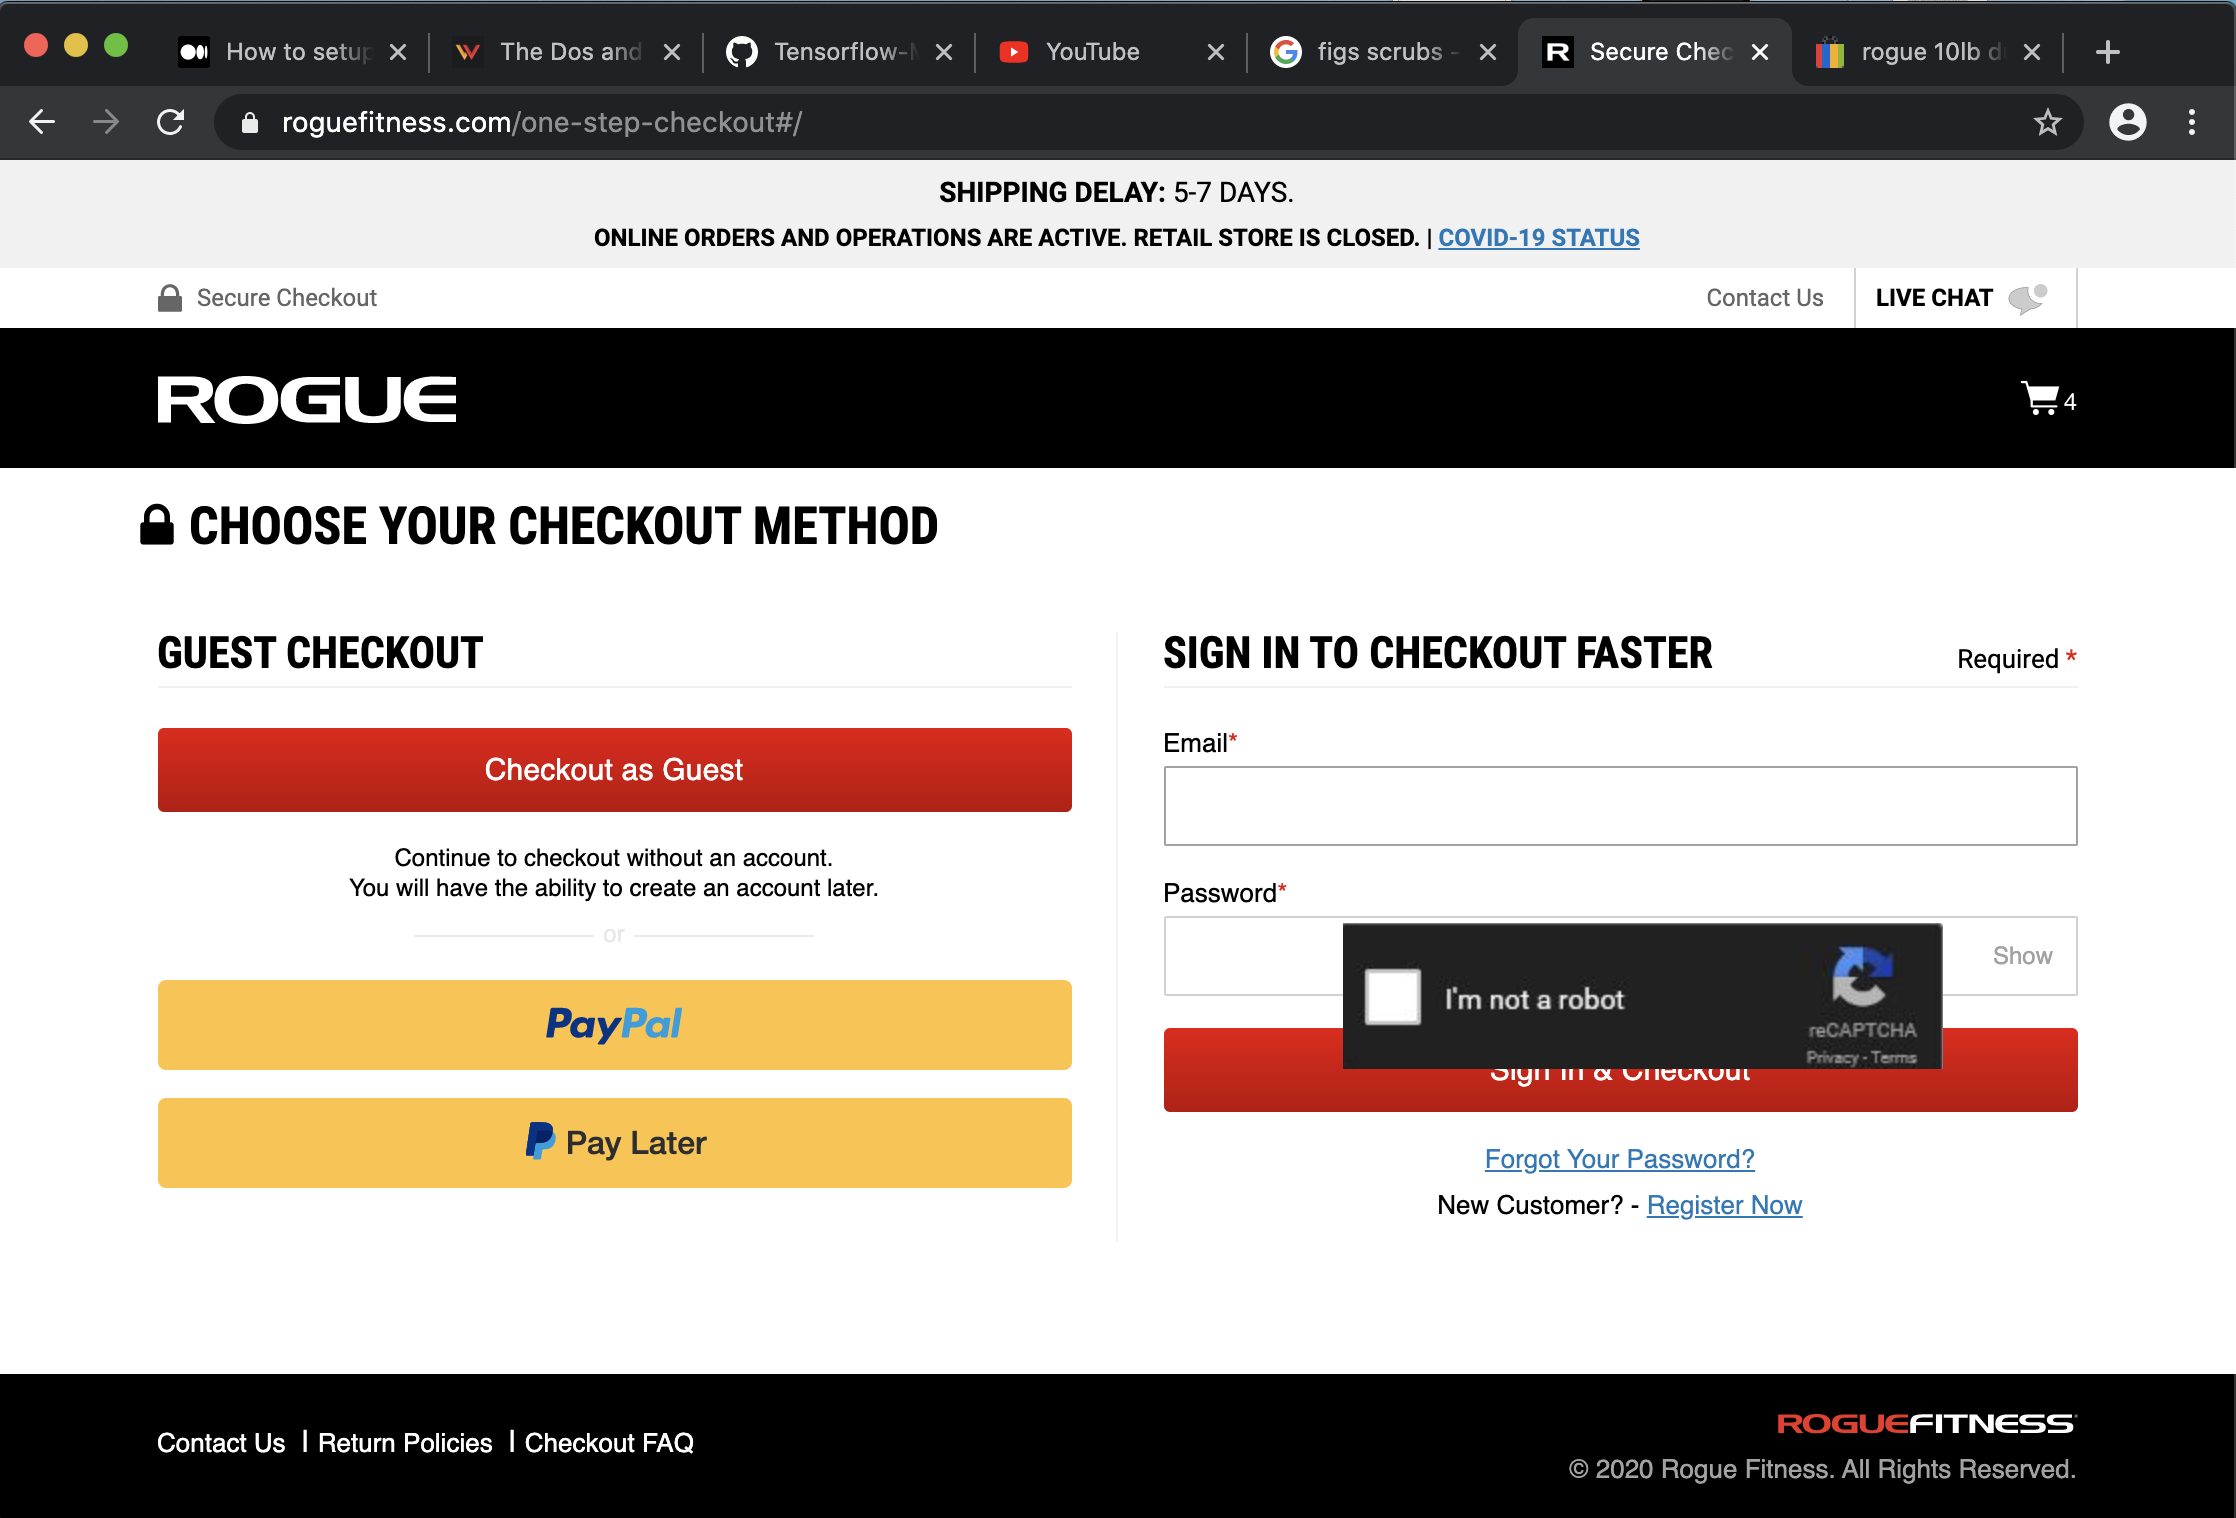captcha: (1335, 911, 1968, 1093)
